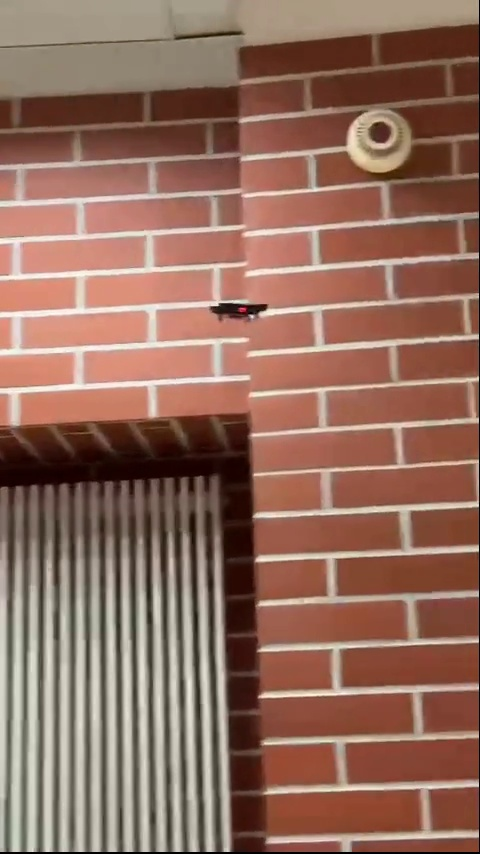drone: (210, 300, 273, 329)
